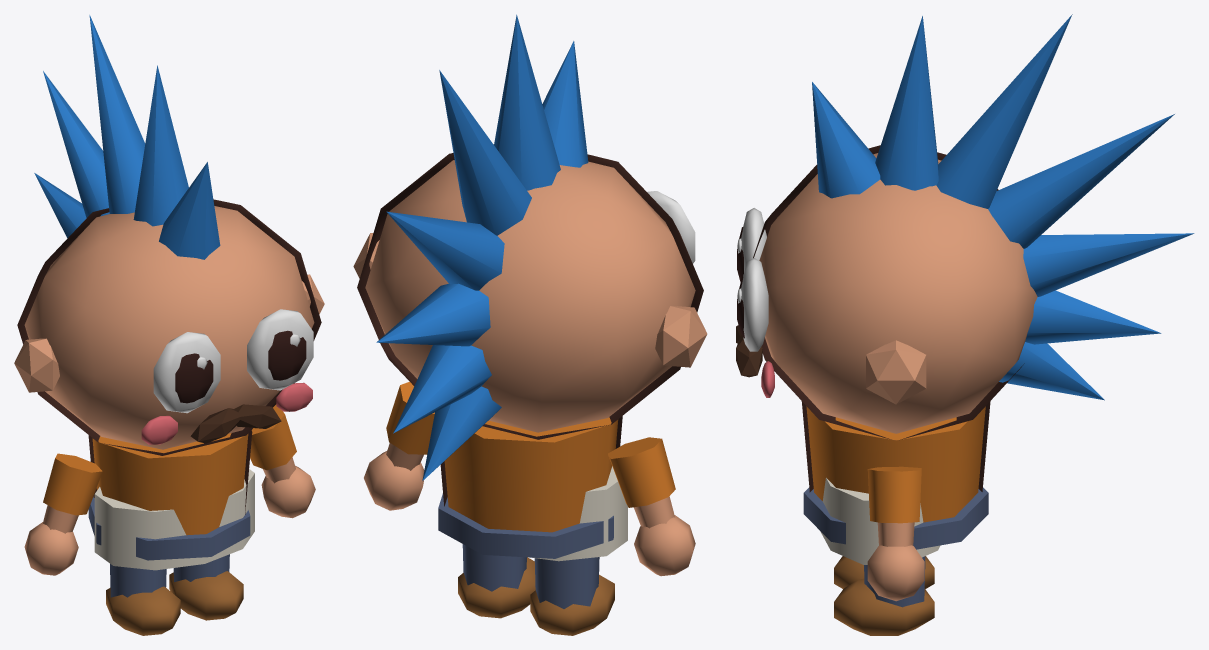
Rendered from npc_merchant.glb.
The picture shows the model from 3 angles, left to right: view 1: azimuth 30°, elevation 25°; view 2: azimuth 150°, elevation 25°; view 3: azimuth 270°, elevation 25°; orthographic projection. The views are drawn at different scales.
Parts seen in each view (by area): view 1: head_mesh, npc_merchant_mesh, arm_L_mesh, leg_L_mesh, arm_R_mesh, leg_R_mesh; view 2: head_mesh, npc_merchant_mesh, arm_L_mesh, leg_L_mesh, arm_R_mesh, leg_R_mesh; view 3: head_mesh, npc_merchant_mesh, arm_R_mesh, leg_R_mesh, leg_L_mesh.
Part boxes in pixels (box(x1,y1,x2,y2)): head_mesh: box(14, 15, 324, 455); npc_merchant_mesh: box(88, 430, 254, 570); arm_L_mesh: box(24, 453, 102, 575); leg_L_mesh: box(106, 564, 180, 635); arm_R_mesh: box(250, 404, 315, 518); leg_R_mesh: box(169, 554, 243, 620); head_mesh: box(353, 14, 707, 480); npc_merchant_mesh: box(438, 416, 627, 561); arm_L_mesh: box(608, 437, 695, 576); leg_L_mesh: box(530, 557, 614, 635); arm_R_mesh: box(364, 381, 434, 510); leg_R_mesh: box(458, 544, 535, 618); head_mesh: box(736, 14, 1194, 440); npc_merchant_mesh: box(801, 401, 990, 564); arm_R_mesh: box(867, 466, 924, 601); leg_R_mesh: box(834, 556, 934, 635); leg_L_mesh: box(834, 556, 934, 588).
Size of the model in its own units: 1.27 by 2.24 by 1.55.
